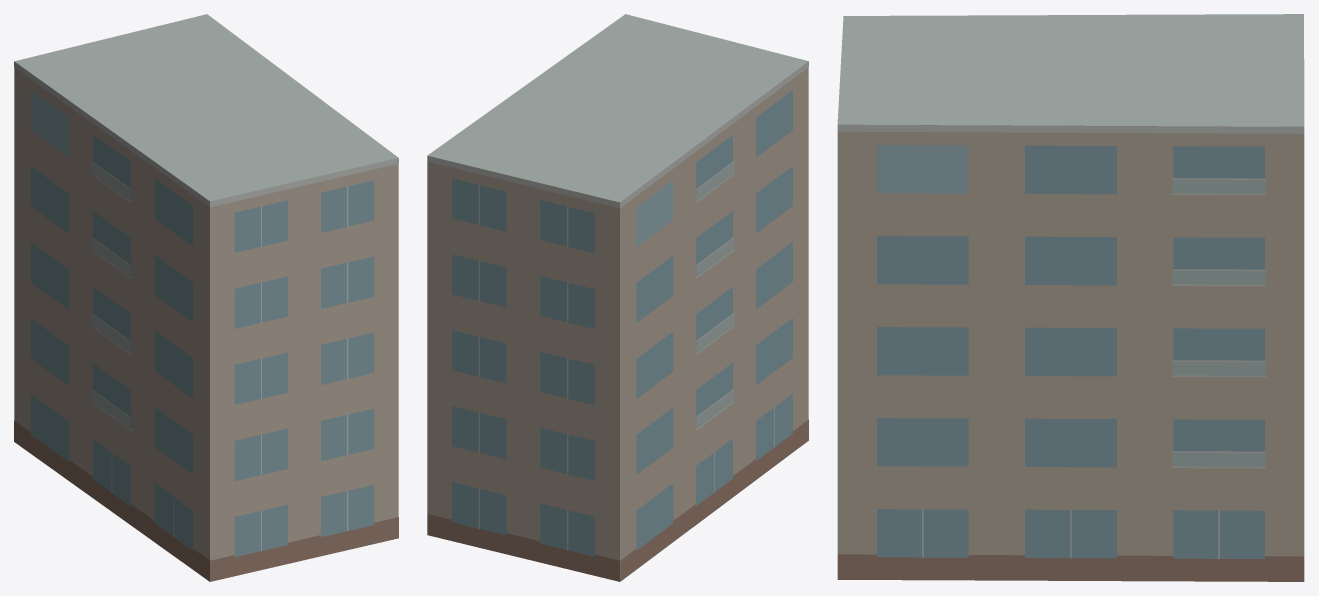
Rendered from survey-upis-32874624.glb.
3 views of the same model, side by side, from view 1: azimuth 30°, elevation 25°; view 2: azimuth 150°, elevation 25°; view 3: azimuth 270°, elevation 25° (orthographic). The views are drawn at different scales.
Visible parts, largest first — view 1: survey-upis-32874624.tmp; view 2: survey-upis-32874624.tmp; view 3: survey-upis-32874624.tmp.
Boxes of the visible parts, x1,y1,x2,y2 form: survey-upis-32874624.tmp: [14, 14, 398, 581]; survey-upis-32874624.tmp: [427, 14, 808, 581]; survey-upis-32874624.tmp: [837, 14, 1304, 581].
Size of the model in its own units: 8.38 by 15.7 by 14.61.
